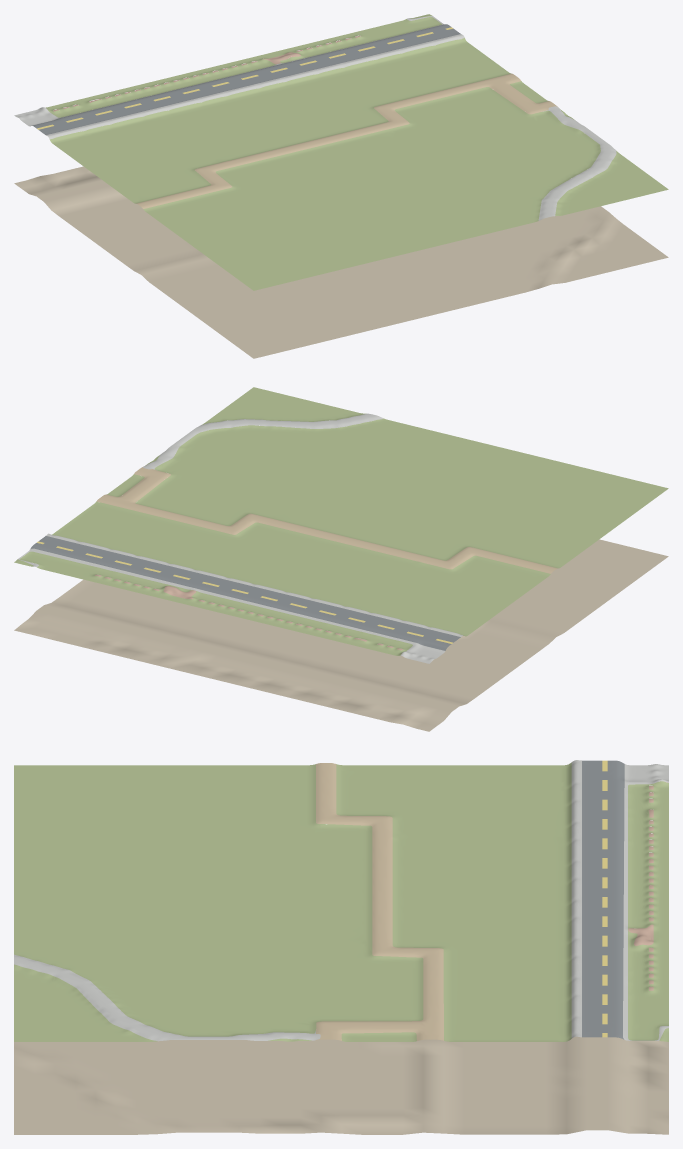
3 renders of one model, top to bottom at view 1: azimuth 30°, elevation 25°; view 2: azimuth 150°, elevation 25°; view 3: azimuth 270°, elevation 25°, orthographic. The views are drawn at different scales.
Visible parts, largest first — view 1: s_-5_-1__grass, s_-5_-1__soil, s_-5_-1__asphalt, s_-5_-1__stone_paving, s_-5_-1__timber_deck, s_-5_-1__yellow_marking, s_-5_-1__brick_paving; view 2: s_-5_-1__grass, s_-5_-1__soil, s_-5_-1__asphalt, s_-5_-1__stone_paving, s_-5_-1__timber_deck, s_-5_-1__yellow_marking, s_-5_-1__brick_paving; view 3: s_-5_-1__grass, s_-5_-1__soil, s_-5_-1__asphalt, s_-5_-1__stone_paving, s_-5_-1__timber_deck, s_-5_-1__yellow_marking, s_-5_-1__brick_paving.
Boxes of the visible parts, bbox=[...] form: s_-5_-1__grass: bbox=[46, 14, 668, 290]; s_-5_-1__soil: bbox=[14, 166, 668, 358]; s_-5_-1__asphalt: bbox=[32, 24, 460, 134]; s_-5_-1__stone_paving: bbox=[14, 16, 616, 220]; s_-5_-1__timber_deck: bbox=[136, 73, 557, 208]; s_-5_-1__yellow_marking: bbox=[37, 27, 453, 129]; s_-5_-1__brick_paving: bbox=[53, 35, 360, 111]; s_-5_-1__grass: bbox=[14, 387, 668, 655]; s_-5_-1__soil: bbox=[14, 539, 668, 731]; s_-5_-1__asphalt: bbox=[30, 536, 460, 650]; s_-5_-1__stone_paving: bbox=[18, 413, 462, 663]; s_-5_-1__timber_deck: bbox=[96, 466, 557, 573]; s_-5_-1__yellow_marking: bbox=[37, 541, 452, 643]; s_-5_-1__brick_paving: bbox=[95, 574, 403, 654]; s_-5_-1__grass: bbox=[14, 762, 668, 1041]; s_-5_-1__soil: bbox=[14, 859, 668, 1134]; s_-5_-1__asphalt: bbox=[582, 760, 624, 1039]; s_-5_-1__stone_paving: bbox=[14, 760, 668, 1041]; s_-5_-1__timber_deck: bbox=[316, 763, 443, 1040]; s_-5_-1__yellow_marking: bbox=[602, 760, 607, 1037]; s_-5_-1__brick_paving: bbox=[628, 782, 667, 990].
Size of the model in its own units: 128 by 21.2 by 128.
